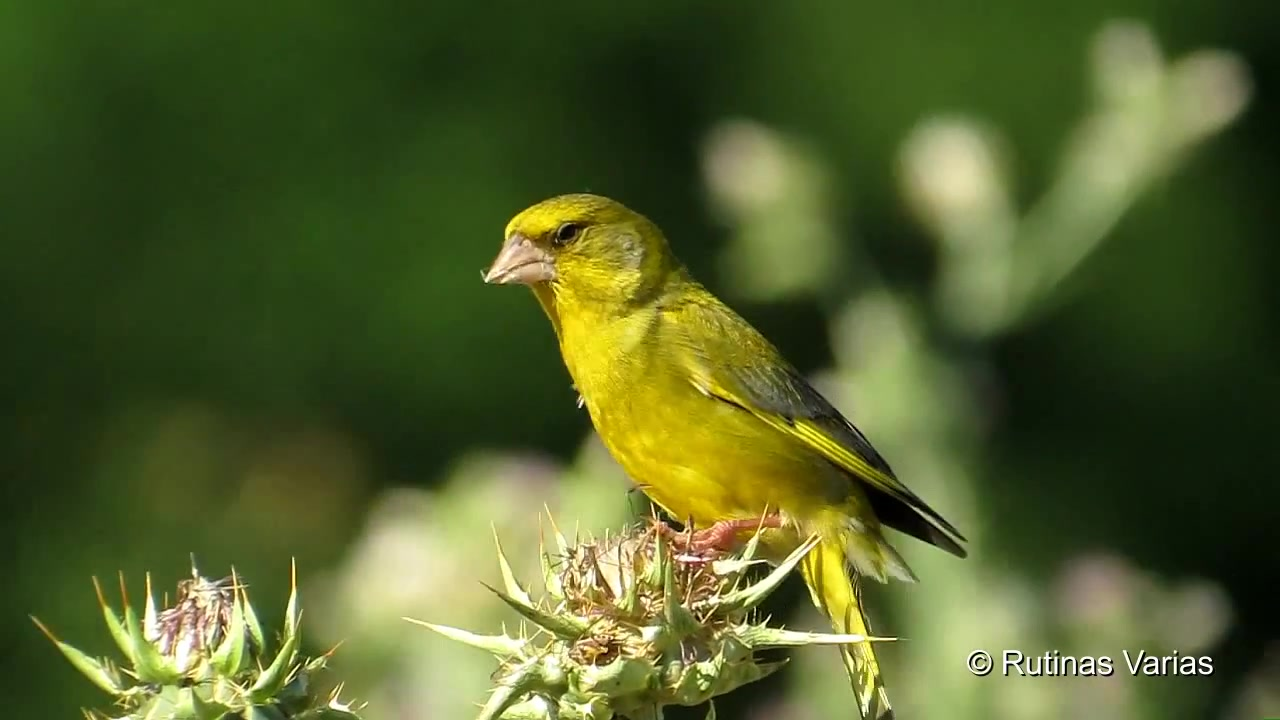bird: (482, 197, 970, 720)
